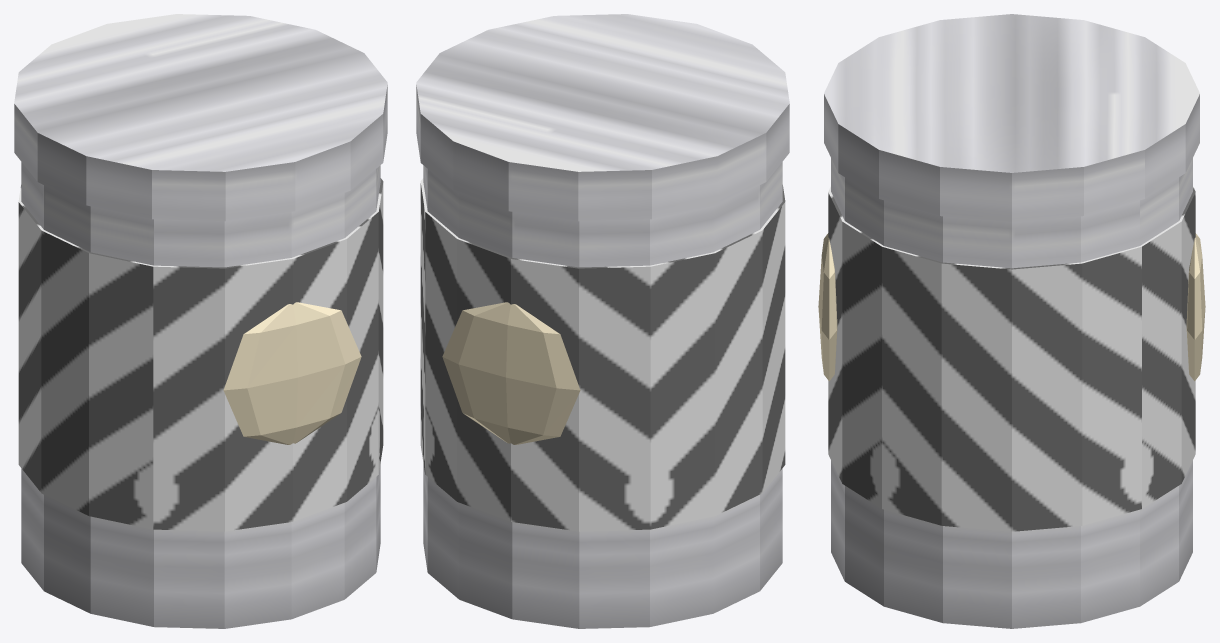
The model's file is cacao.obj.
3 views of the same model, side by side, from view 1: azimuth 30°, elevation 25°; view 2: azimuth 150°, elevation 25°; view 3: azimuth 270°, elevation 25° (orthographic).
Parts seen in each view (by area): view 1: cacao; view 2: cacao; view 3: cacao.
Boxes of the visible parts, left/top/right/bottom form: cacao: left=14, top=14, right=387, bottom=628; cacao: left=416, top=14, right=789, bottom=628; cacao: left=818, top=14, right=1205, bottom=628.
Size of the model in its own units: 0.104 by 0.14 by 0.107.
Materials: 4 (3 with a texture image).
